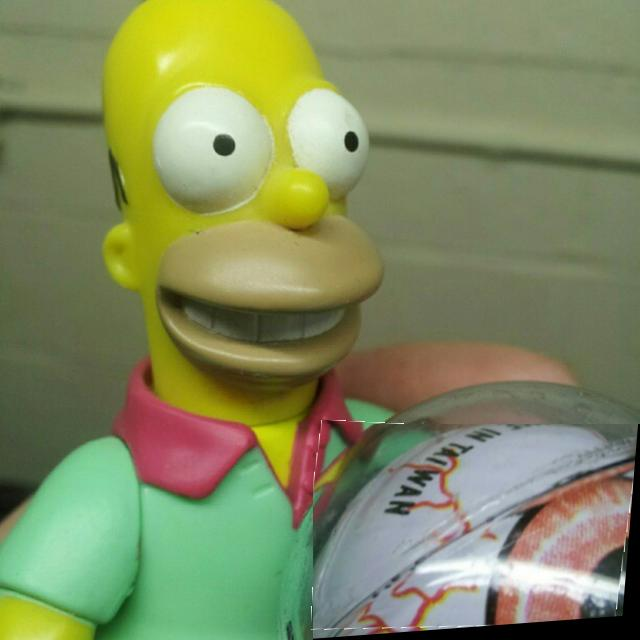Football: (313, 424, 640, 640)
